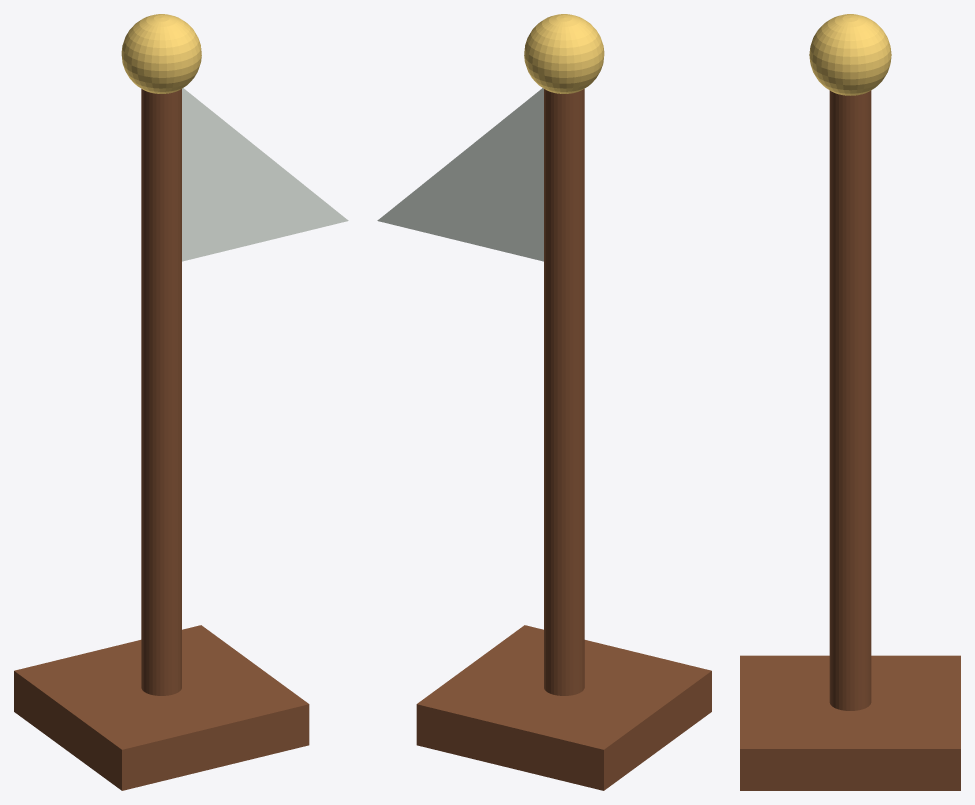
Rendered from flag.glb.
The picture shows the model from 3 angles, left to right: view 1: azimuth 30°, elevation 25°; view 2: azimuth 150°, elevation 25°; view 3: azimuth 270°, elevation 25°; orthographic projection. The views are drawn at different scales.
Visible parts, largest first — view 1: Cube, Cylinder, Plane, Sphere; view 2: Cube, Cylinder, Plane, Sphere; view 3: Cube, Cylinder, Sphere.
Part boxes in pixels (<box>): Cube: <box>14,625,309,790</box>; Cylinder: <box>141,89,181,695</box>; Plane: <box>182,88,348,261</box>; Sphere: <box>121,14,201,93</box>; Cube: <box>416,625,711,790</box>; Cylinder: <box>544,89,584,695</box>; Plane: <box>377,88,543,261</box>; Sphere: <box>524,14,604,93</box>; Cube: <box>740,655,960,790</box>; Cylinder: <box>829,90,871,710</box>; Sphere: <box>809,14,891,95</box>.
Bounding box in the file's own units: 3 × 7.26 × 2.
1 material, 1 textured.
